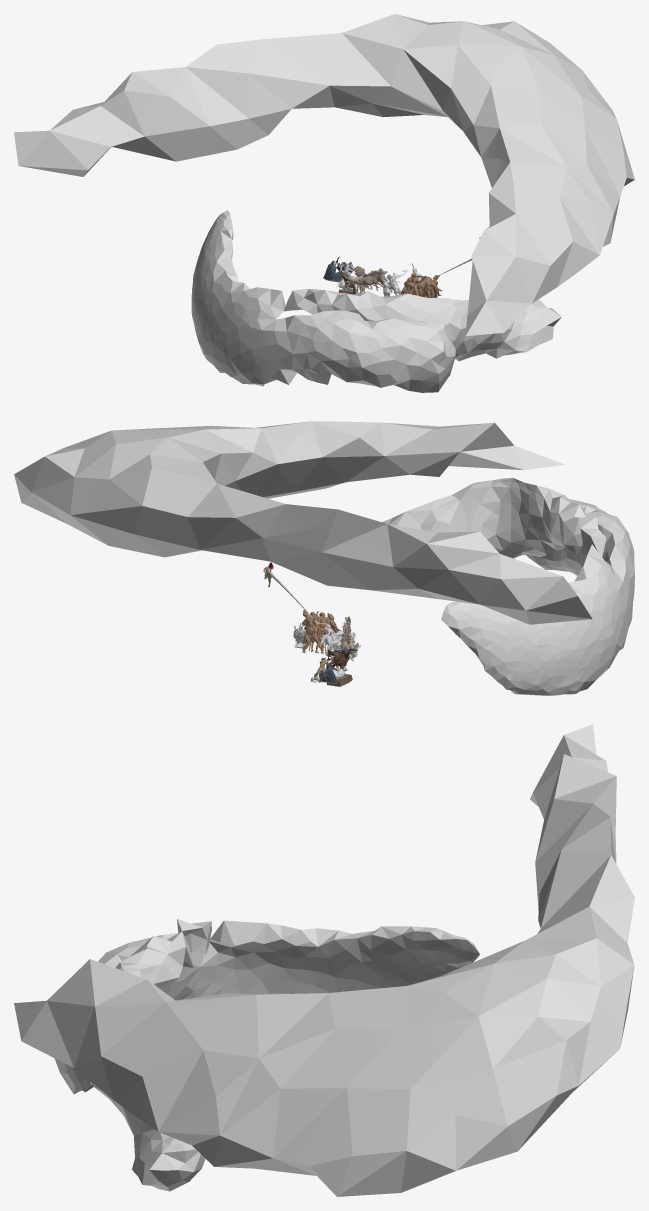
The picture shows the model from 3 angles, top to bottom: view 1: azimuth 30°, elevation 25°; view 2: azimuth 150°, elevation 25°; view 3: azimuth 270°, elevation 25°; orthographic projection. The views are drawn at different scales.
Size of the model in its own units: 80.31 by 30.82 by 59.61.
